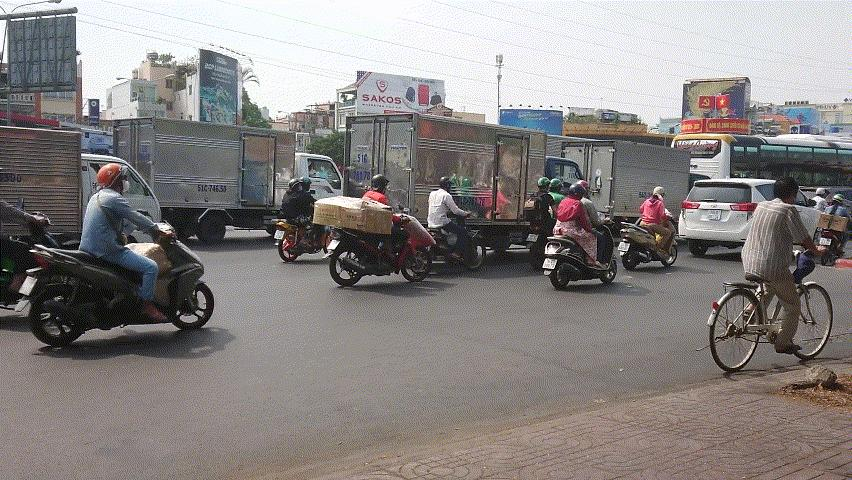bicyclist: (695, 176, 834, 373)
driver: (15, 162, 215, 348), (313, 173, 436, 286), (542, 178, 618, 290), (427, 176, 486, 273), (617, 186, 678, 271), (273, 176, 333, 261), (818, 193, 852, 265)
helmet: (96, 163, 130, 196), (371, 174, 390, 195), (569, 182, 587, 201), (439, 176, 455, 194), (288, 177, 304, 193), (538, 176, 552, 194), (550, 178, 565, 194), (652, 186, 666, 202), (832, 194, 844, 206)
no-helmet: (774, 176, 798, 204)
